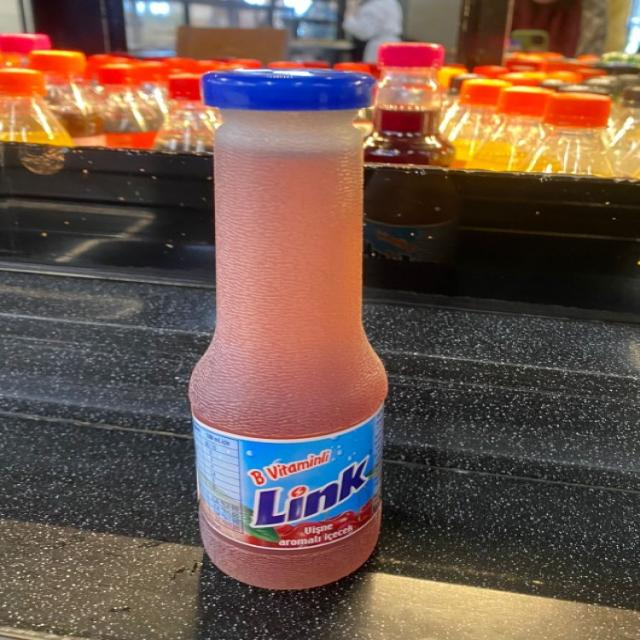yan_yemek: (187, 66, 390, 590), (345, 33, 472, 285), (1, 38, 238, 154), (432, 52, 636, 178), (523, 94, 615, 179), (362, 41, 432, 139), (439, 78, 511, 172), (480, 85, 553, 174), (30, 49, 99, 141), (95, 63, 166, 150), (154, 74, 223, 154), (269, 62, 338, 136), (604, 85, 638, 179), (331, 61, 377, 130), (552, 81, 615, 122), (85, 58, 121, 128), (0, 33, 51, 69)
